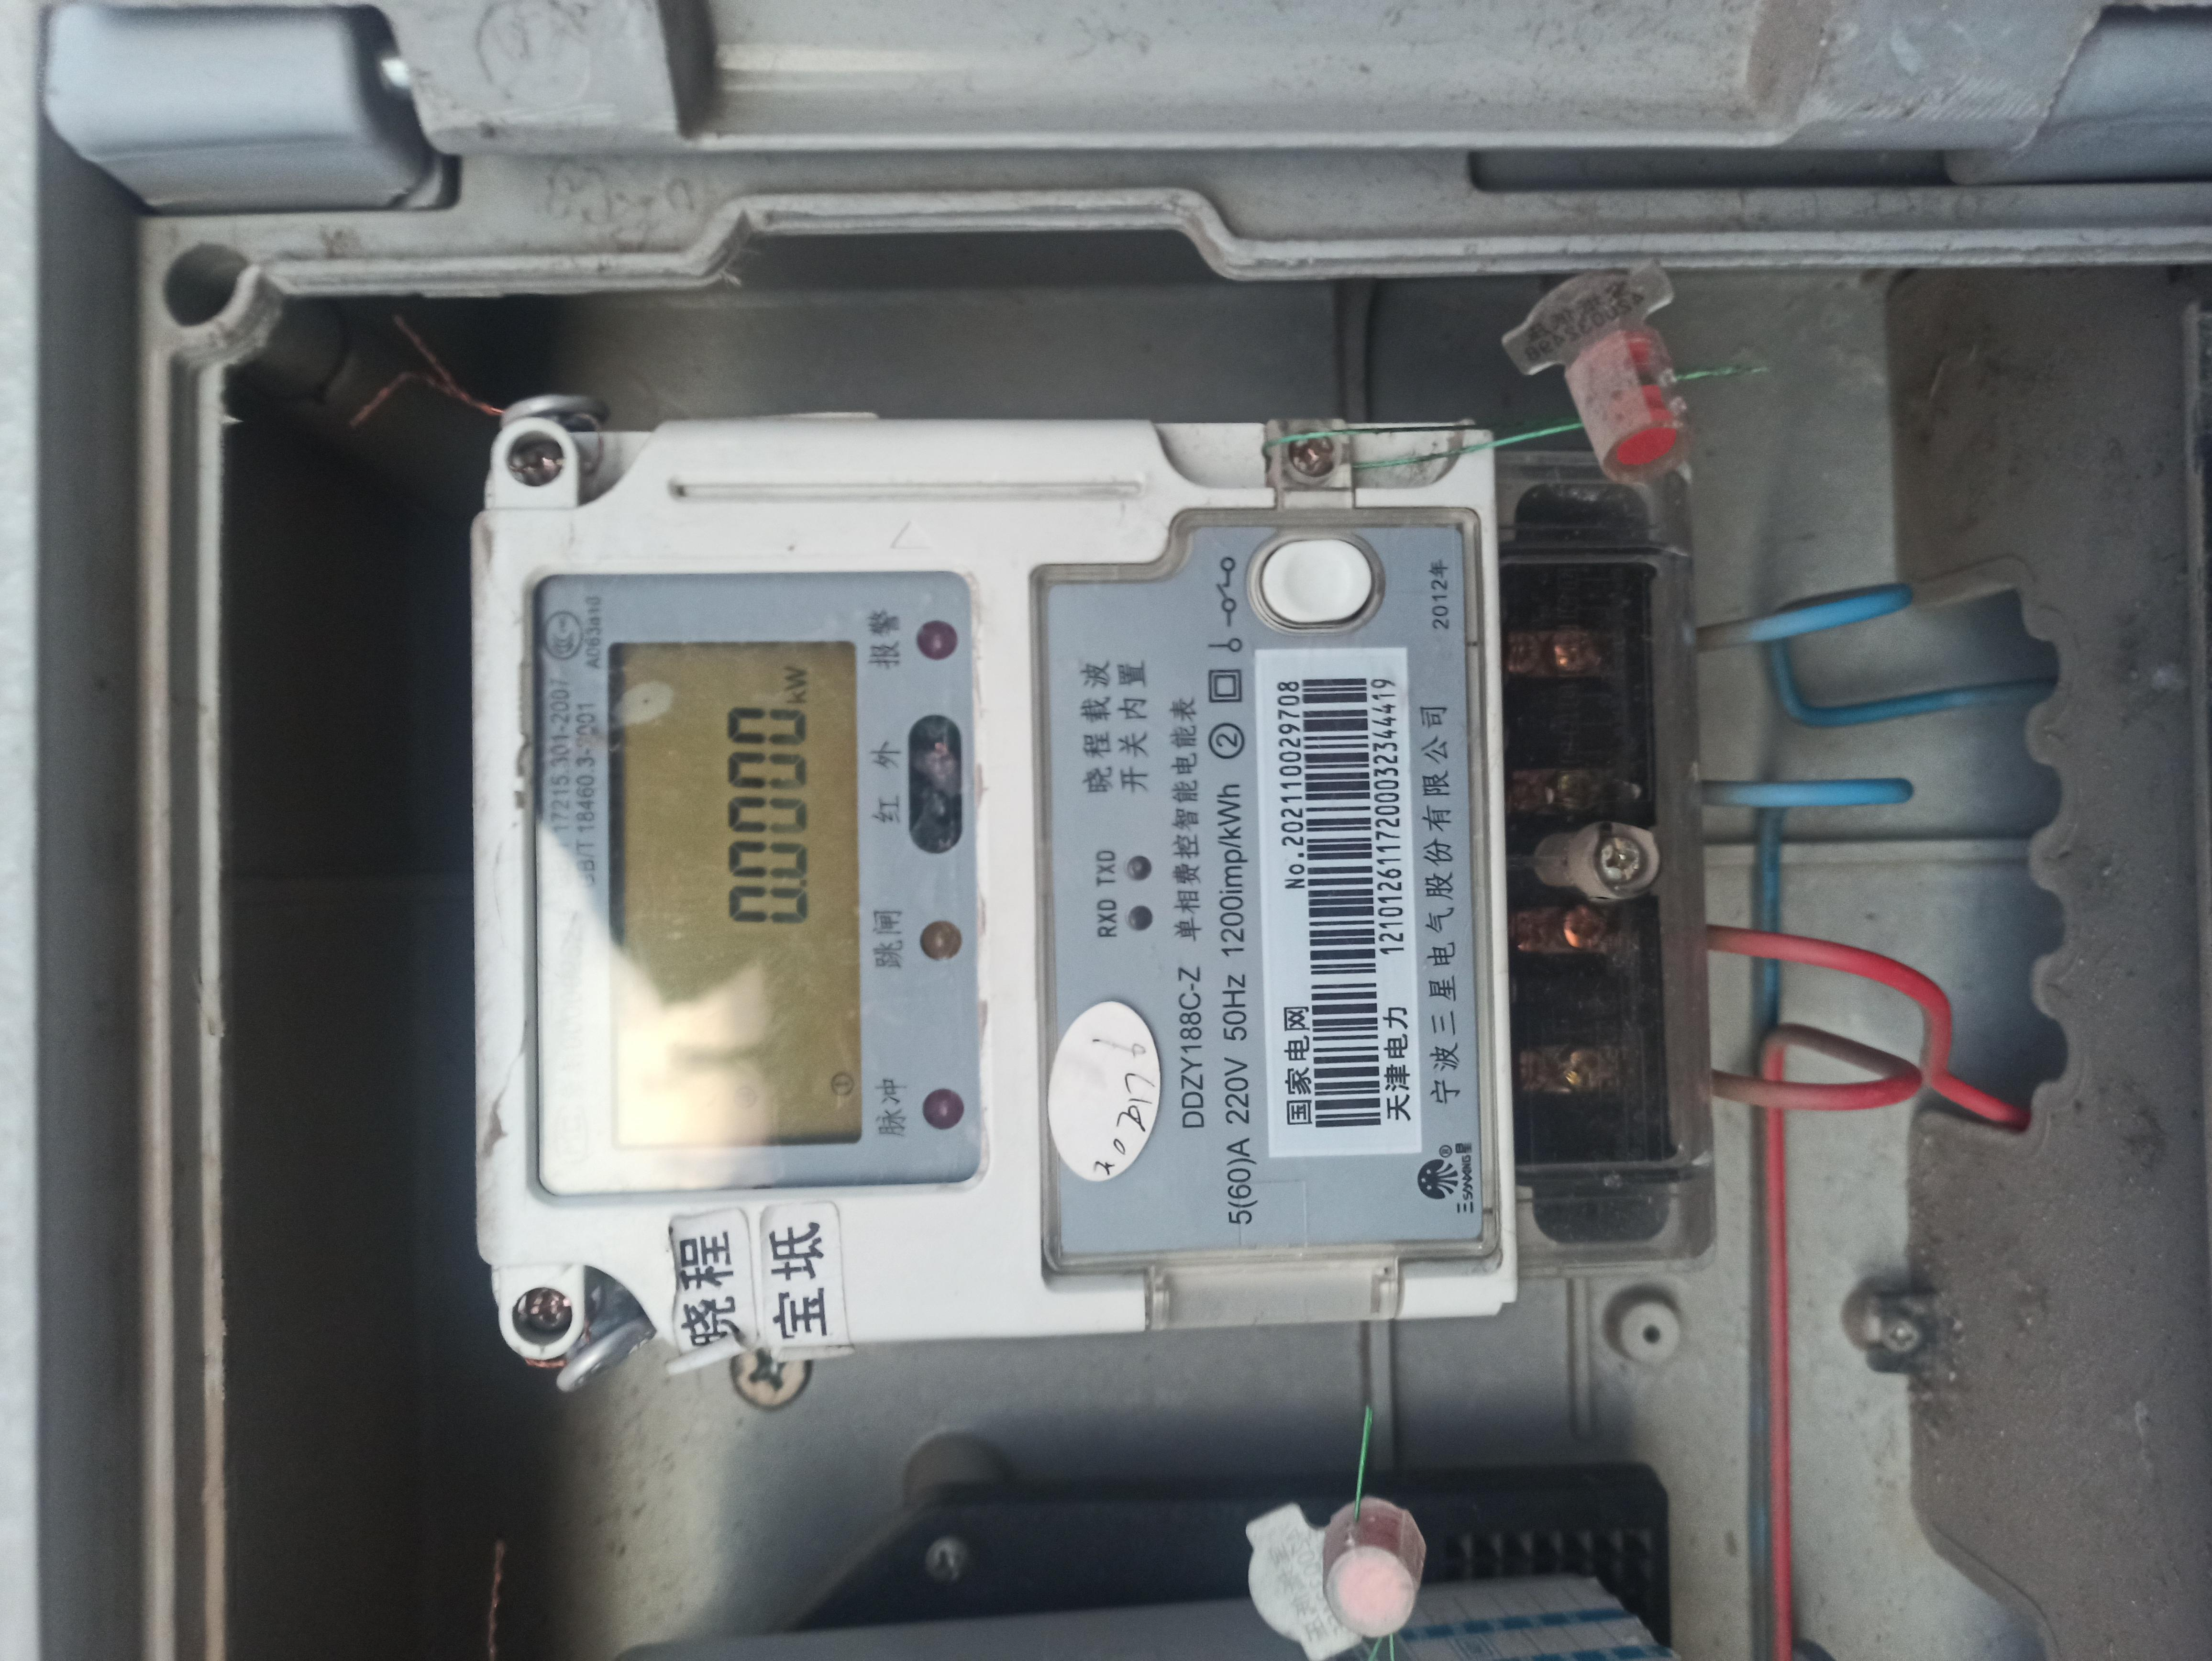digital: (473, 422, 1519, 1340)
